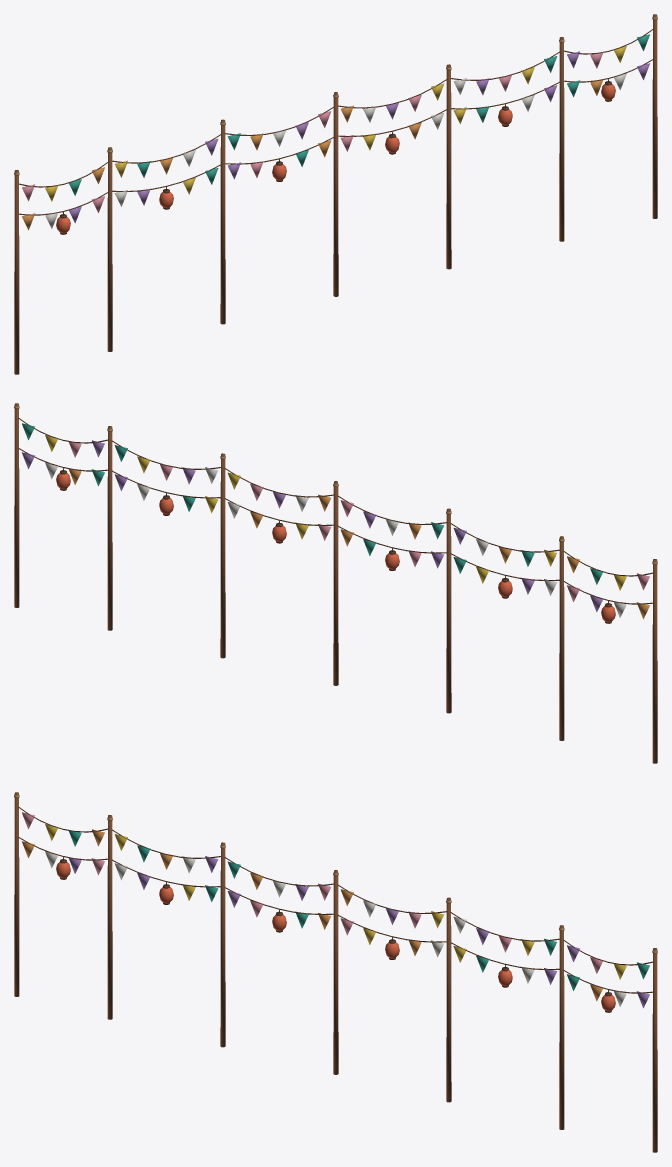
The model's file is bunting_side.glb.
3 renders of one model, top to bottom at view 1: azimuth 30°, elevation 25°; view 2: azimuth 150°, elevation 25°; view 3: azimuth 330°, elevation 25°, orthographic.
Parts seen in each view (by area): view 1: bunting_side, bunting_side_glow; view 2: bunting_side, bunting_side_glow; view 3: bunting_side, bunting_side_glow.
Boxes of the visible parts, <box> form: bunting_side: <box>14,14,657,374</box>; bunting_side_glow: <box>56,84,615,233</box>; bunting_side: <box>14,403,657,763</box>; bunting_side_glow: <box>56,473,615,622</box>; bunting_side: <box>14,792,657,1152</box>; bunting_side_glow: <box>56,862,615,1011</box>.
Size of the model in its own units: 16.63 by 5.01 by 0.34.
